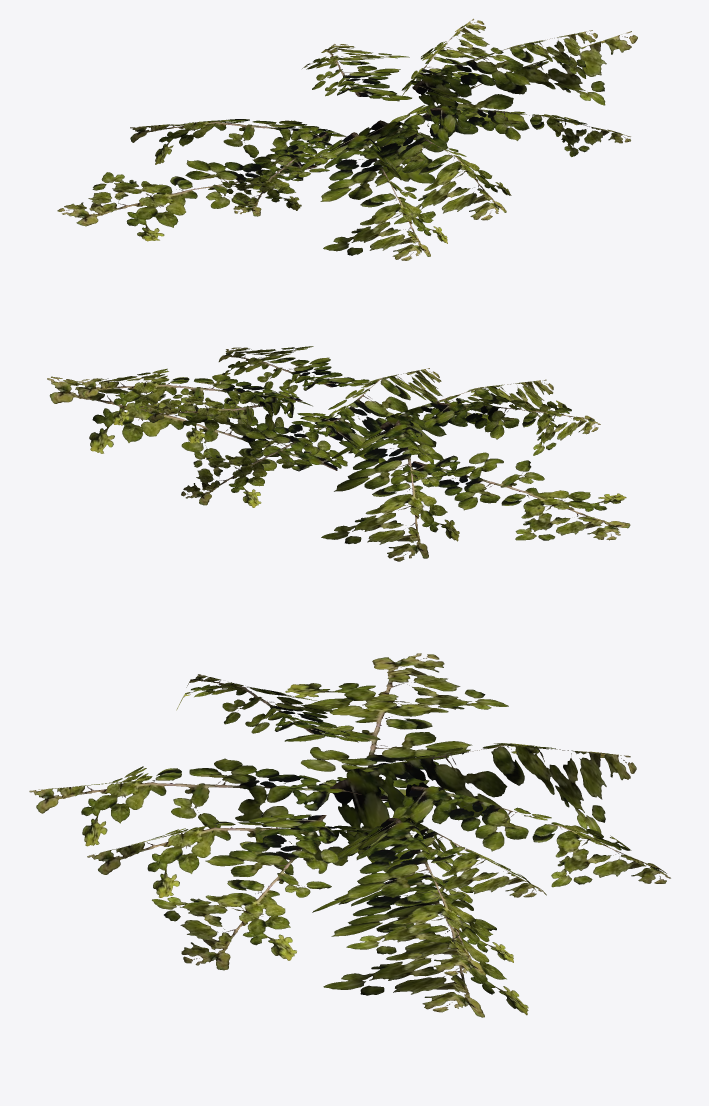
File: KM_VOB_FLOWERS_ON_THE_WALL_03.glb
3 renders of one model, top to bottom at view 1: azimuth 30°, elevation 25°; view 2: azimuth 150°, elevation 25°; view 3: azimuth 270°, elevation 25°, orthographic. The views are drawn at different scales.
Visible parts, largest first — view 1: Mesh; view 2: Mesh; view 3: Mesh.
Part boxes in pixels (bbox=[...]): Mesh: bbox=[57, 18, 637, 260]; Mesh: bbox=[47, 346, 630, 561]; Mesh: bbox=[29, 653, 670, 1017].
Bounding box in the file's own units: 1.07 × 0.1855 × 0.7211.
1 material, 1 textured.
